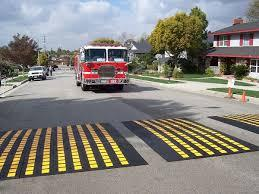Bump: (0, 121, 144, 180), (123, 115, 258, 162), (210, 113, 258, 136)
